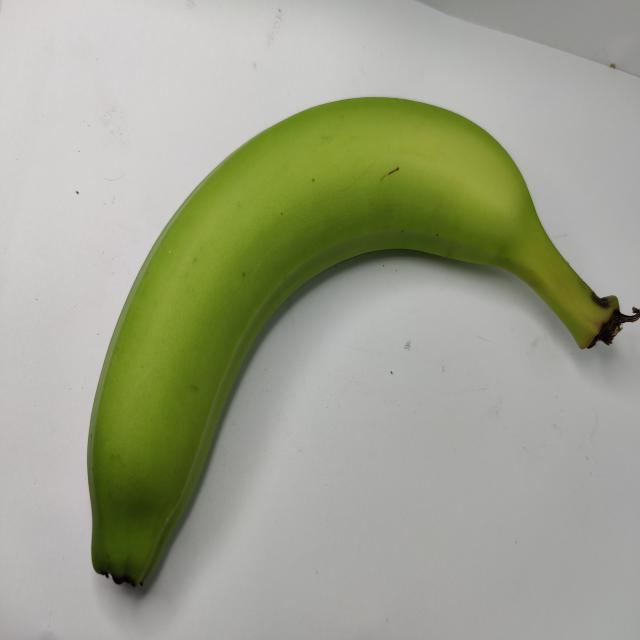raw: (68, 59, 640, 608)
